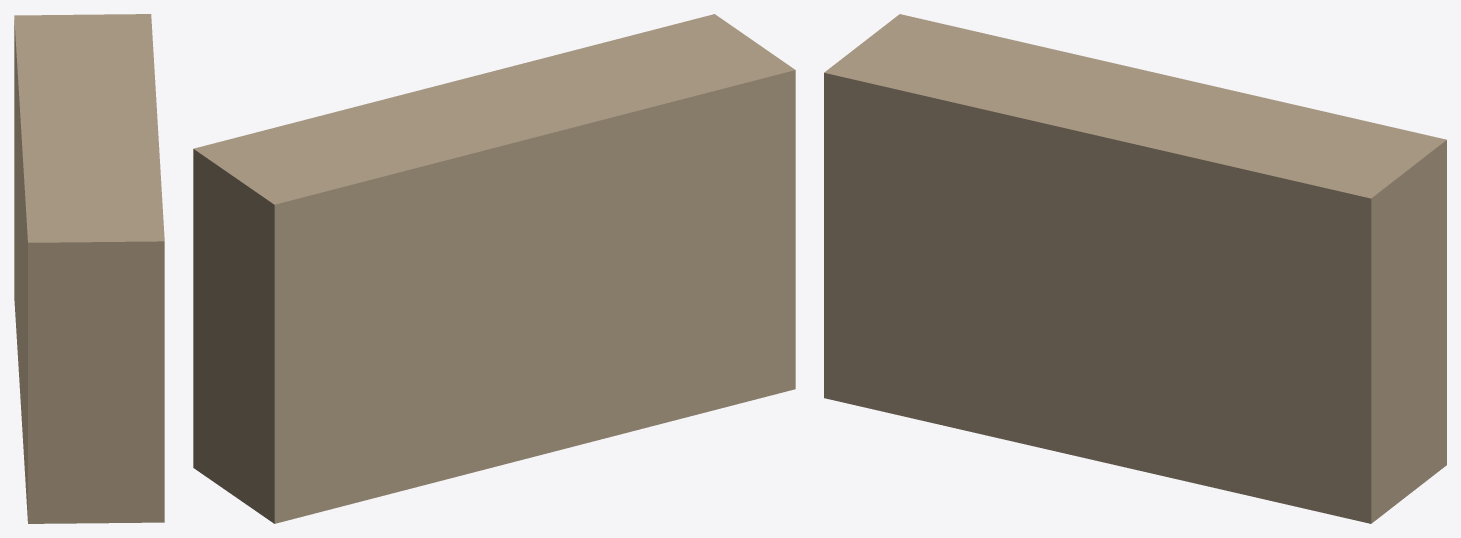
File: bld_99531886.dae
3 views of the same model, side by side, from view 1: azimuth 30°, elevation 25°; view 2: azimuth 150°, elevation 25°; view 3: azimuth 270°, elevation 25° (orthographic). The views are drawn at different scales.
Visible parts, largest first — view 1: bld_99531886; view 2: bld_99531886; view 3: bld_99531886.
Boxes of the visible parts, x1,y1,x2,y2 form: bld_99531886: (14,14,164,523); bld_99531886: (193,14,795,523); bld_99531886: (824,14,1446,523).
Bounding box in the file's own units: 9.73 × 13.88 × 8.
